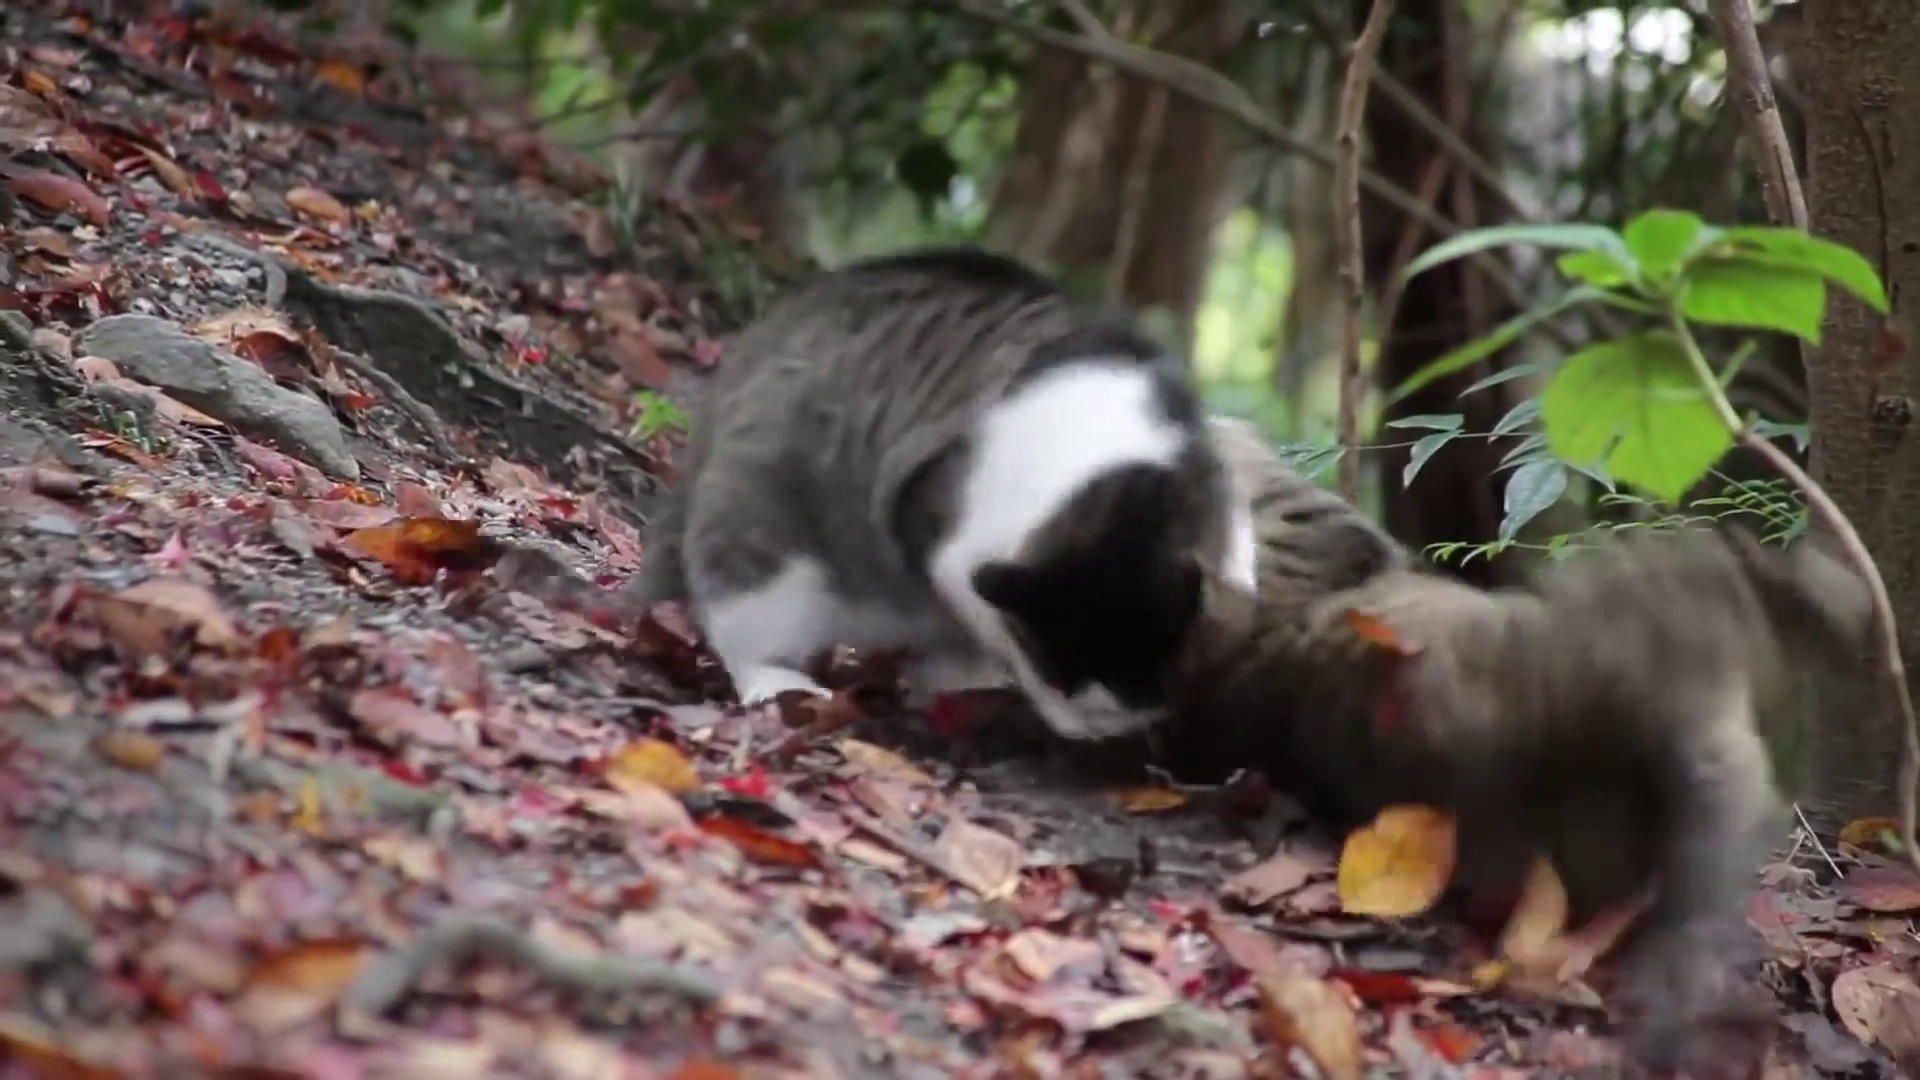black-white: (638, 251, 1221, 741)
pure black: (1167, 413, 1774, 1043)
